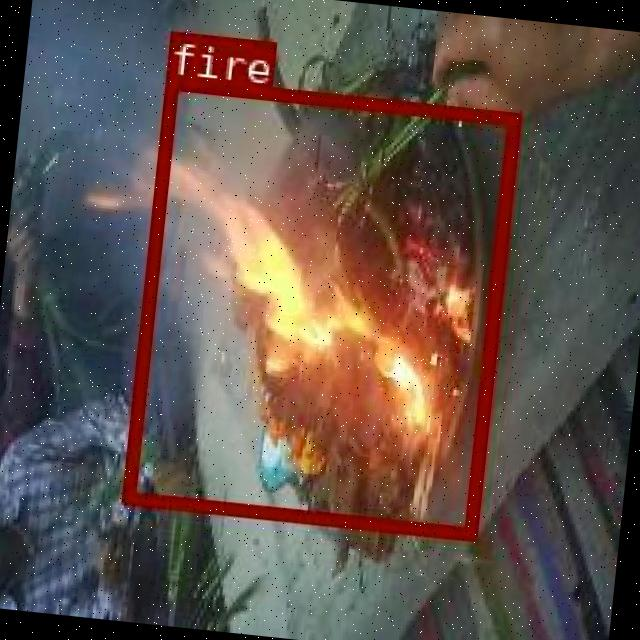fire: (120, 74, 518, 539)
